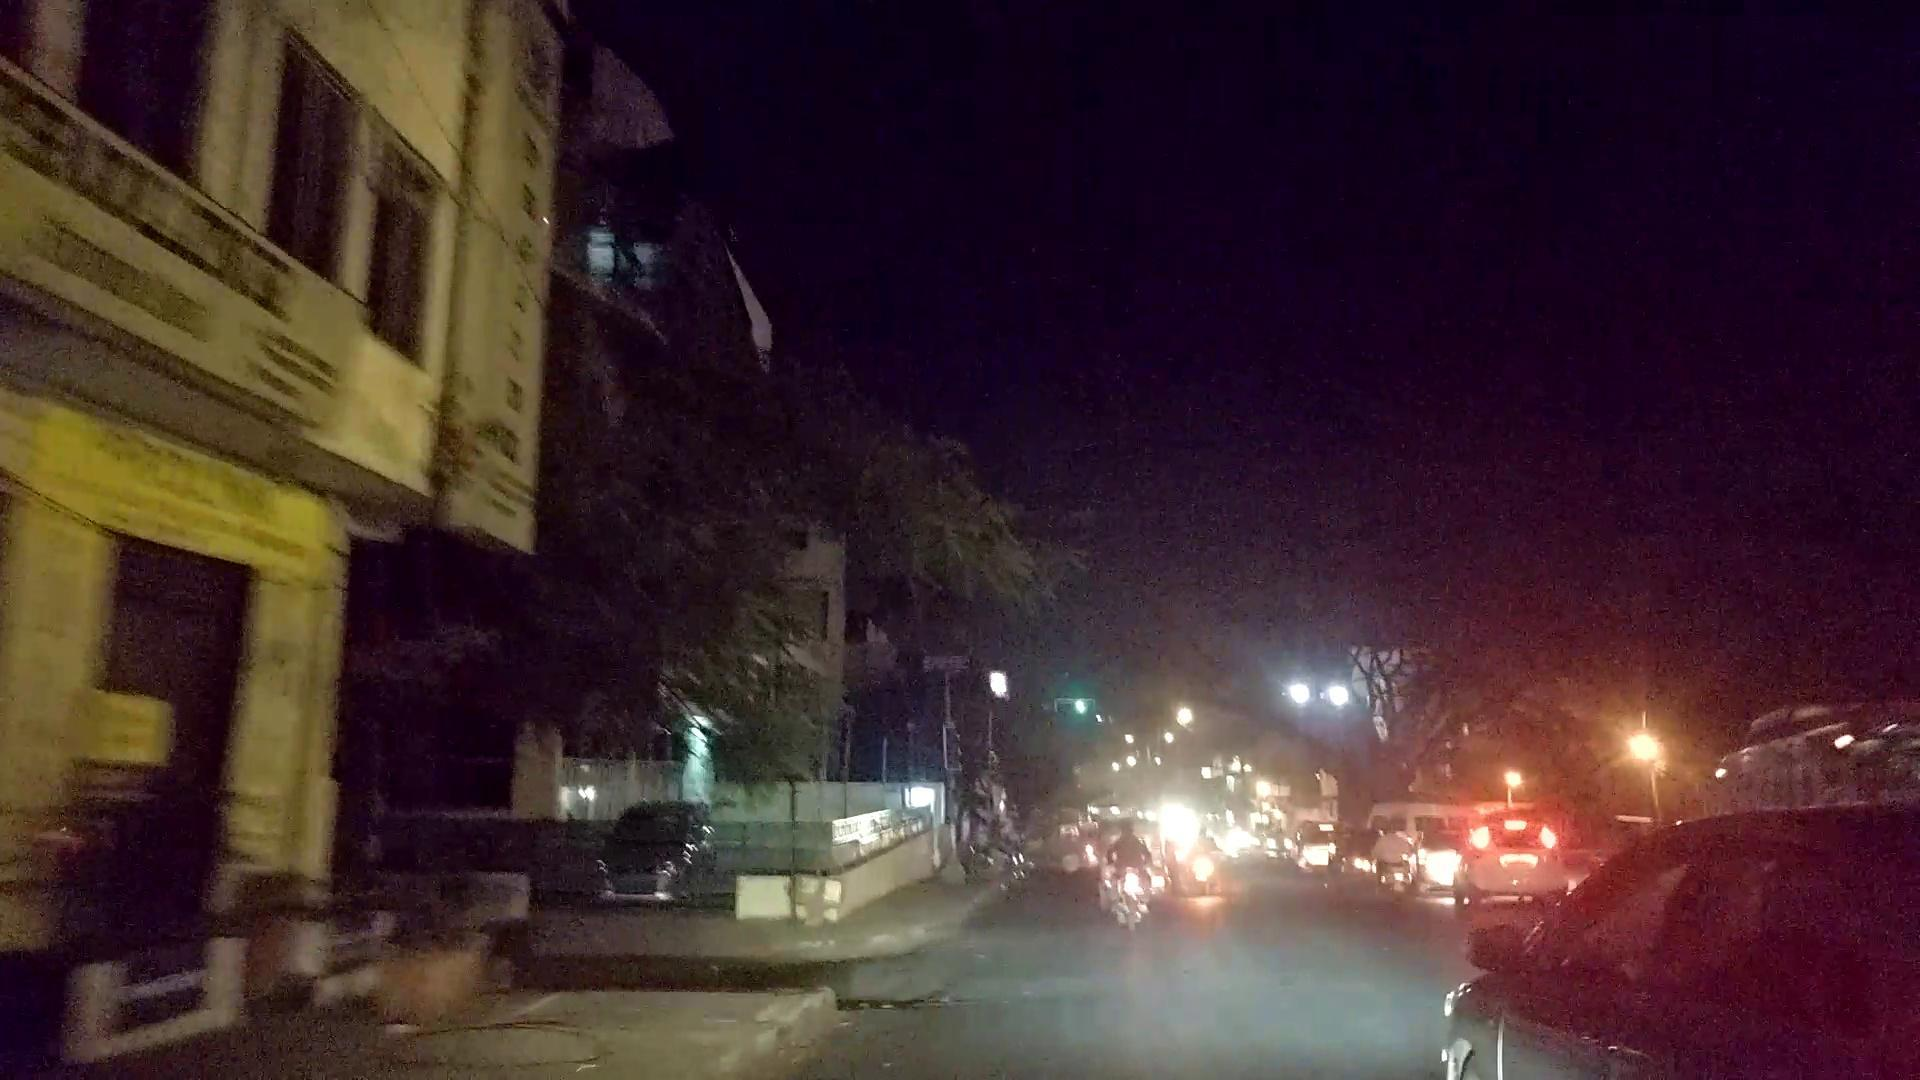on: (40, 0, 1871, 1080)
